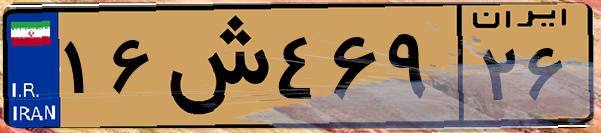1: (57, 26, 110, 100)
2: (475, 38, 525, 113)
4: (270, 28, 330, 110)
6: (330, 28, 385, 110), (525, 38, 570, 115), (110, 28, 158, 98)
9: (385, 28, 445, 110)
ش: (158, 12, 270, 120)
